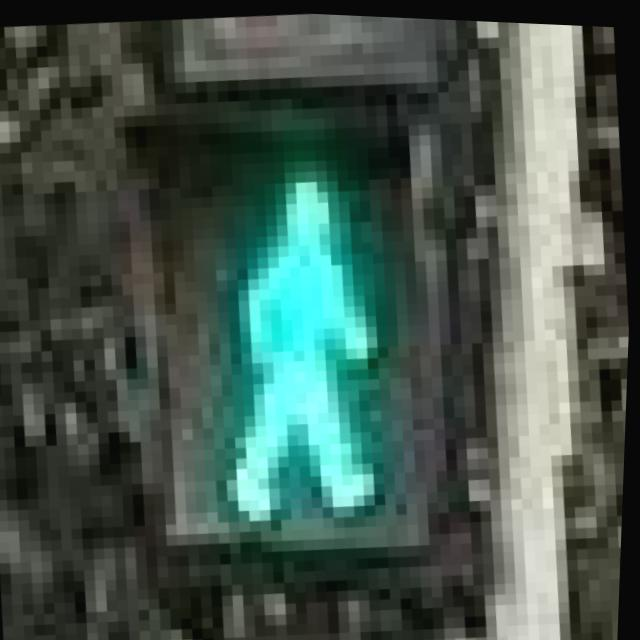green_light: (154, 87, 497, 552)
